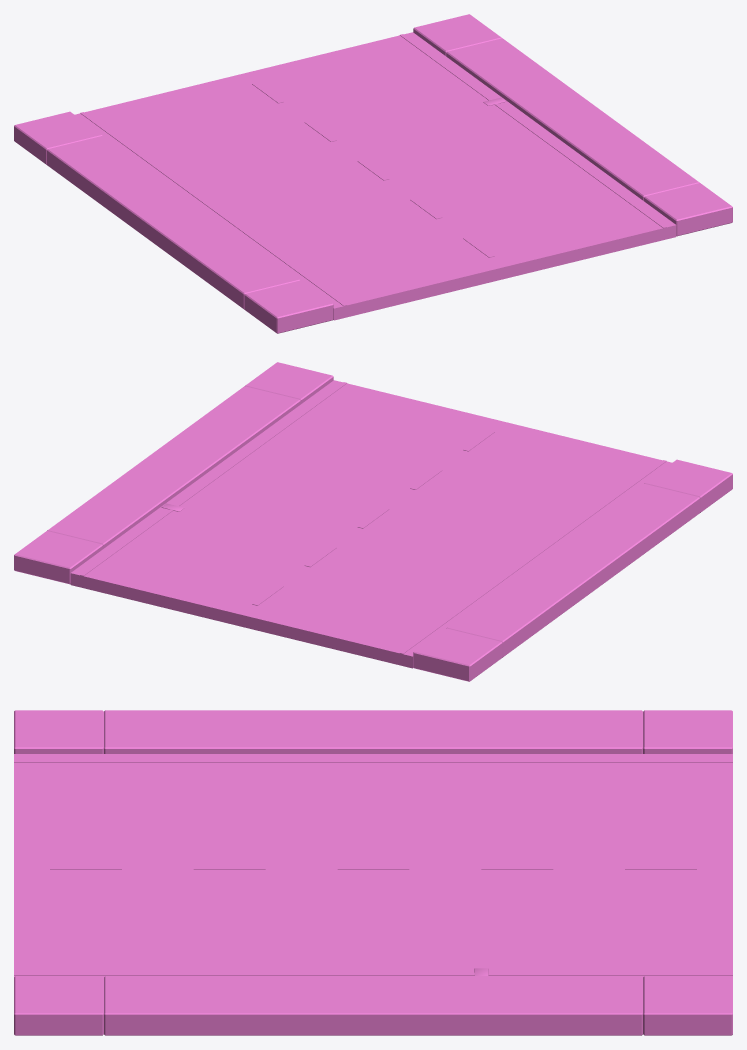
File: Road_Straight.fbx
3 views of the same model, one above another, from view 1: azimuth 30°, elevation 25°; view 2: azimuth 150°, elevation 25°; view 3: azimuth 270°, elevation 25° (orthographic). The views are drawn at different scales.
Visible parts, largest first — view 1: Tile; view 2: Tile; view 3: Tile.
Part boxes in pixels (box(x1,y1,x2,y2)): Tile: box(14, 14, 732, 333); Tile: box(14, 362, 732, 681); Tile: box(14, 710, 732, 1035).
Size of the model in its own units: 40 by 1.4 by 40.
Materials: 1 (1 with a texture image).
